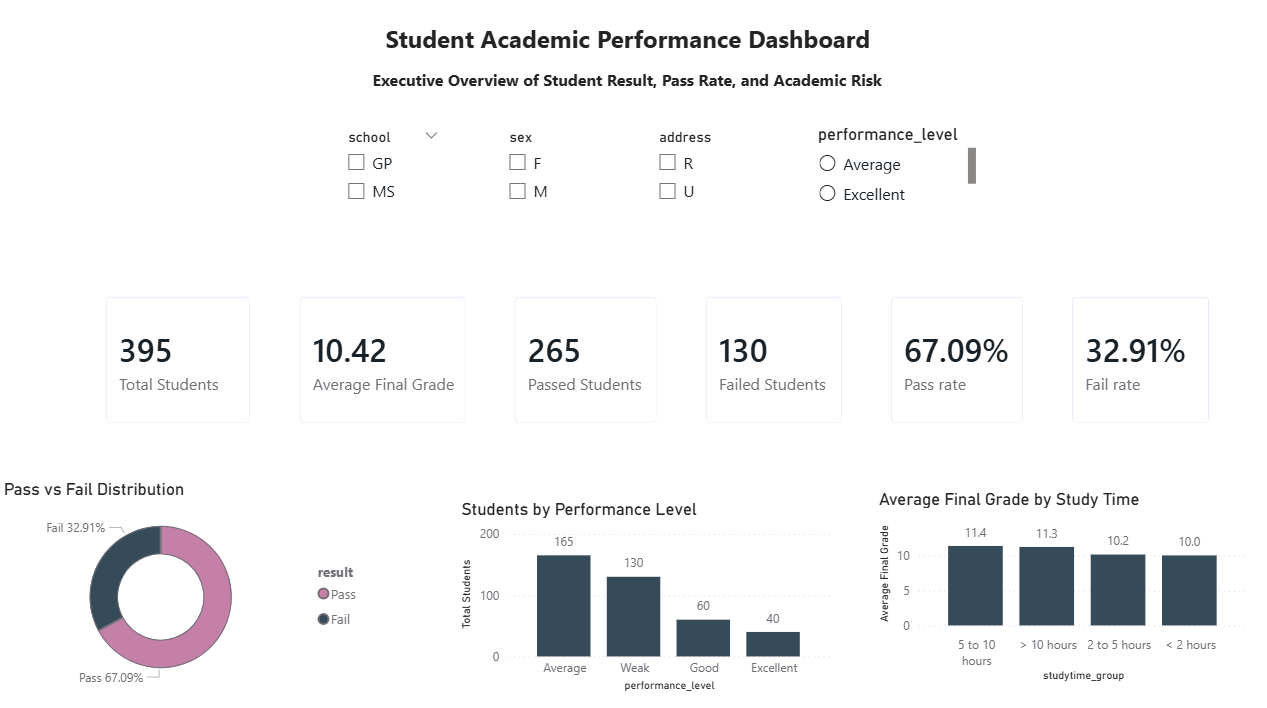

Layout of this report page (visuals, bound fields, positions):
{"tool":"powerbi","page":{"name":"Executive Overview","canvas":[1280,720],"ordinal":0},"visuals":[{"type":"cardVisual","fields":{"Data":["vw_student_analysis.Total Students"]},"box":[90,280,178.8,160],"z":0,"group":"g1"},{"type":"cardVisual","fields":{"Data":["vw_student_analysis.Average Final Grade"]},"box":[283.8,280,200,160],"z":1000,"group":"g1"},{"type":"cardVisual","fields":{"Data":["vw_student_analysis.Passed Student"]},"box":[498.8,280,176.2,160],"z":2000,"group":"g1"},{"type":"cardVisual","fields":{"Data":["vw_student_analysis.Failed Student"]},"box":[690,280,170,160],"z":3000,"group":"g1"},{"type":"cardVisual","fields":{"Data":["vw_student_analysis.Pass rate"]},"box":[875,280,166.2,160],"z":4000,"group":"g1"},{"type":"cardVisual","fields":{"Data":["vw_student_analysis.Fail rate"]},"box":[1056.2,280,171.2,160],"z":5000,"group":"g1"},{"type":"textbox","box":[214.7,0,827.6,82],"z":6000},{"type":"textbox","box":[161.7,63.9,933.8,35],"z":7000},{"type":"donutChart","title":"Pass vs Fail Distribution","fields":{"Category":["vw_student_analysis.result"],"Y":["vw_student_analysis.Total Students"]},"box":[0,478.8,378.8,217.5],"z":8000},{"type":"columnChart","title":"Students by Performance Level","fields":{"Category":["vw_student_analysis.performance_level"],"Y":["vw_student_analysis.Total Students"]},"box":[457.5,498.8,378.8,197.5],"z":9000},{"type":"columnChart","title":"Average Final Grade by Study Time","fields":{"Category":["vw_student_analysis.studytime_group"],"Y":["vw_student_analysis.Average Final Grade"]},"box":[875,488.8,378.8,197.5],"z":10000},{"type":"slicer","fields":{"Values":["vw_student_analysis.school"]},"box":[336.2,123.8,115,95],"z":11000},{"type":"slicer","fields":{"Values":["vw_student_analysis.sex"]},"box":[497.5,123.8,115,95],"z":12000},{"type":"slicer","fields":{"Values":["vw_student_analysis.address"]},"box":[647.5,123.8,122.5,95],"z":13000},{"type":"listSlicer","fields":{"Values":["vw_student_analysis.performance_level"]},"box":[813.8,123.8,168.8,95],"z":14000},{"type":"group","id":"g1","title":"Groupe 1","box":[90,280,1137.5,160],"z":14001}]}

Visuals, with their boxes in screenshot pixels (x1, y1, x2, y2), scaled from the page's 1280x720 canvas onto the 1267x708 screenshot:
cardVisual - vw_student_analysis.Total Students: Rect(89, 275, 266, 433)
cardVisual - vw_student_analysis.Average Final Grade: Rect(281, 275, 479, 433)
cardVisual - vw_student_analysis.Passed Student: Rect(494, 275, 668, 433)
cardVisual - vw_student_analysis.Failed Student: Rect(683, 275, 851, 433)
cardVisual - vw_student_analysis.Pass rate: Rect(866, 275, 1031, 433)
cardVisual - vw_student_analysis.Fail rate: Rect(1045, 275, 1215, 433)
textbox: Rect(213, 0, 1032, 81)
textbox: Rect(160, 63, 1084, 97)
"Pass vs Fail Distribution" donutChart: Rect(0, 471, 375, 685)
"Students by Performance Level" columnChart: Rect(453, 490, 828, 685)
"Average Final Grade by Study Time" columnChart: Rect(866, 481, 1241, 675)
slicer - vw_student_analysis.school: Rect(333, 122, 447, 215)
slicer - vw_student_analysis.sex: Rect(492, 122, 606, 215)
slicer - vw_student_analysis.address: Rect(641, 122, 762, 215)
listSlicer - vw_student_analysis.performance_level: Rect(806, 122, 973, 215)
"Groupe 1" group: Rect(89, 275, 1215, 433)
